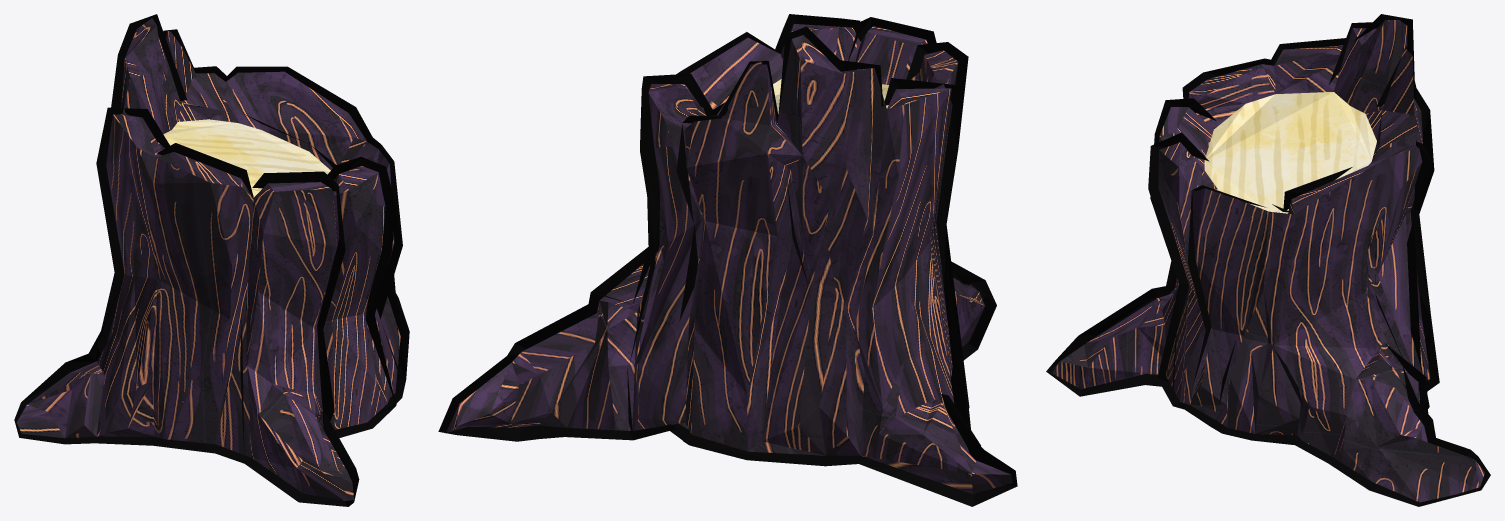
The model's file is s0_Tree_Trunk_01__1__01.glb.
3 renders of one model, left to right at view 1: azimuth 30°, elevation 25°; view 2: azimuth 150°, elevation 25°; view 3: azimuth 270°, elevation 25°, orthographic. The views are drawn at different scales.
Parts seen in each view (by area): view 1: node_Tree_Trunk_01 (1); view 2: node_Tree_Trunk_01 (1); view 3: node_Tree_Trunk_01 (1).
Part boxes in pixels (left/top/right/bottom): node_Tree_Trunk_01 (1): left=14, top=14, right=409, bottom=506; node_Tree_Trunk_01 (1): left=438, top=14, right=1017, bottom=506; node_Tree_Trunk_01 (1): left=1046, top=14, right=1490, bottom=506.
Size of what is drawn, in the model's own units: 3.42 by 3.02 by 3.26.
Materials: 3 (2 with a texture image).
